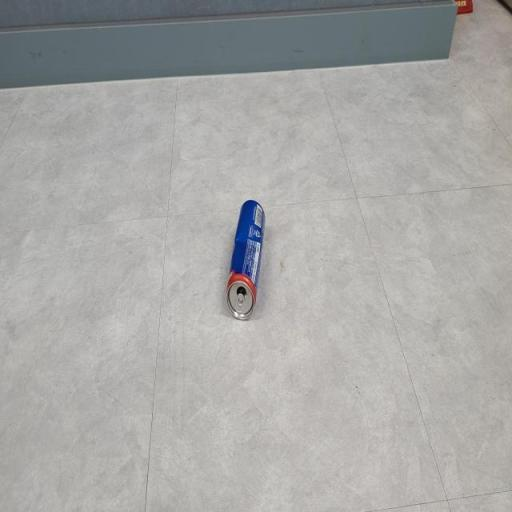metal: (215, 172, 273, 345)
